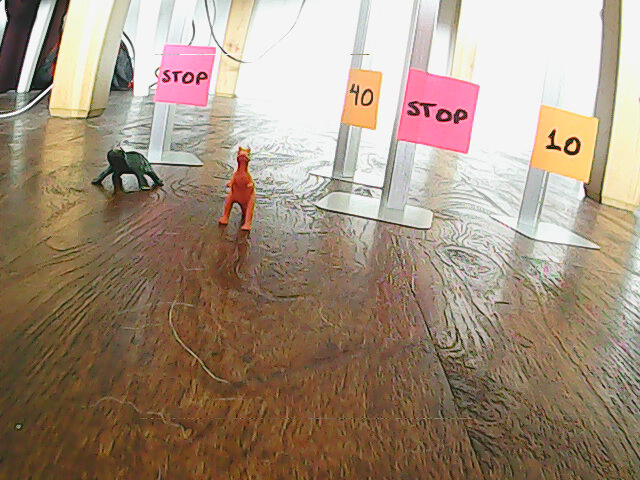10: (539, 114, 589, 177)
40: (347, 72, 377, 126)
dinosaur: (217, 144, 259, 236)
stop: (405, 86, 472, 138), (160, 57, 210, 101)
turtle: (89, 141, 164, 199)
